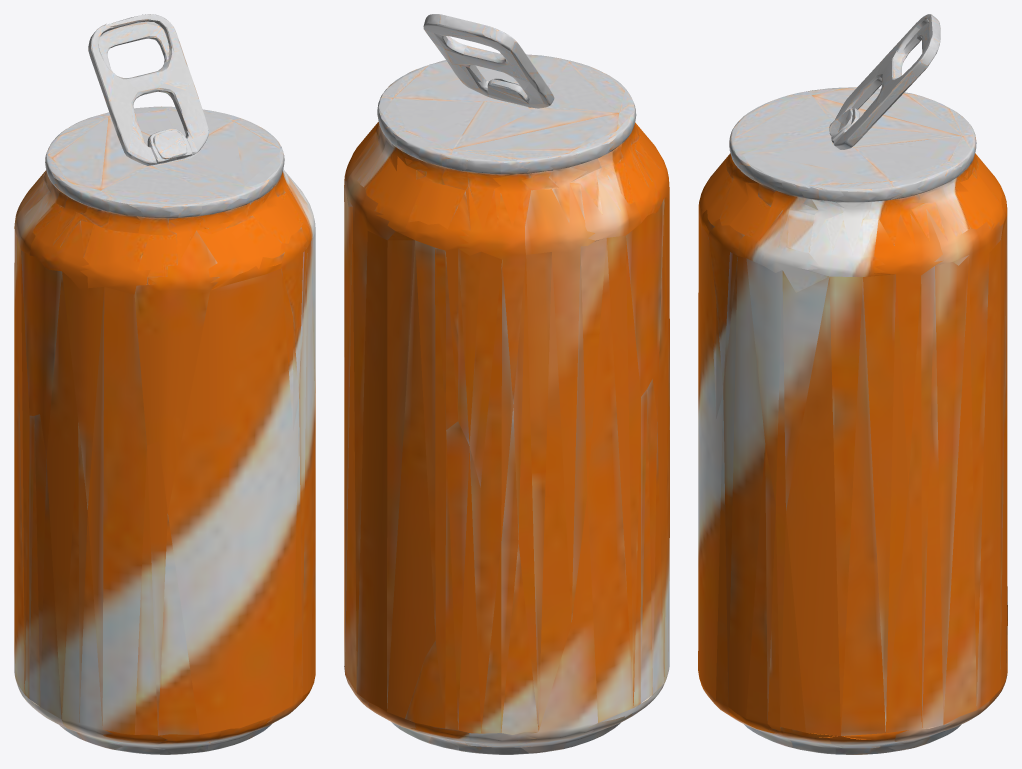
The model's file is popcan.glb.
The picture shows the model from 3 angles, left to right: view 1: azimuth 30°, elevation 25°; view 2: azimuth 150°, elevation 25°; view 3: azimuth 270°, elevation 25°; orthographic projection. The views are drawn at different scales.
Size of the model in its own units: 0.7841 by 1.9 by 0.7851.
Materials: 1 (1 with a texture image).
